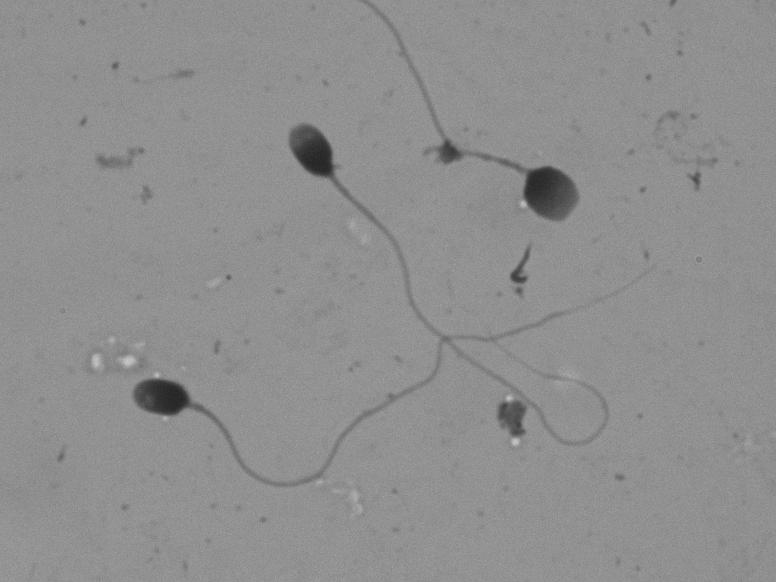Abnormal: (371, 18, 660, 236)
Normal: (92, 266, 682, 520), (256, 106, 423, 510)
